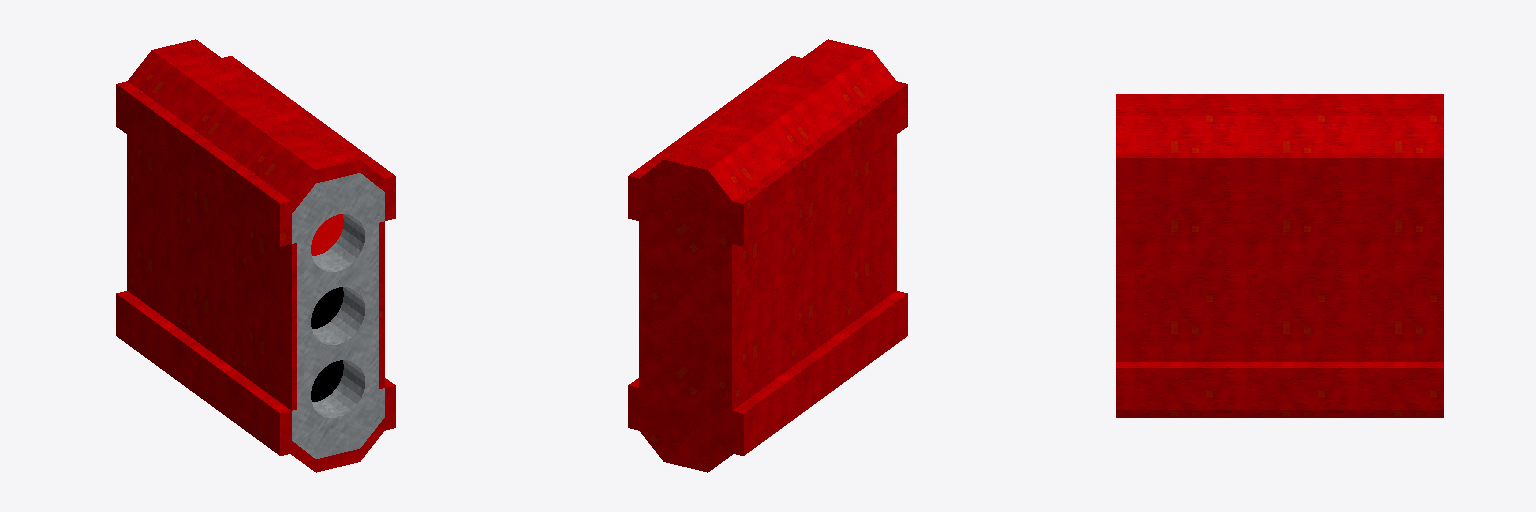
The picture shows the model from 3 angles: view 1: azimuth 30°, elevation 25°; view 2: azimuth 150°, elevation 25°; view 3: azimuth 270°, elevation 25°; orthographic projection.
Visible parts, largest first — view 1: pow_bloc-SKP--_Metal_Aluminum_Anodized_, pow_bloc-SKP--_Metal_Rough_, pow_bloc-SKP--_Color_M09_, pow_bloc-SKP--_Color_A05_; view 2: pow_bloc-SKP--_Metal_Aluminum_Anodized_; view 3: pow_bloc-SKP--_Metal_Aluminum_Anodized_.
Boxes of the visible parts, box(x1,y1,x2,y2) form: pow_bloc-SKP--_Metal_Aluminum_Anodized_: box(116, 39, 395, 472); pow_bloc-SKP--_Metal_Rough_: box(292, 173, 384, 458); pow_bloc-SKP--_Color_M09_: box(311, 287, 343, 401); pow_bloc-SKP--_Color_A05_: box(311, 214, 343, 255); pow_bloc-SKP--_Metal_Aluminum_Anodized_: box(628, 39, 907, 472); pow_bloc-SKP--_Metal_Aluminum_Anodized_: box(1116, 94, 1443, 417).
Bounding box in the file's own units: 29.75 × 74.5 × 73.33.
Materials: 4 (4 with a texture image).